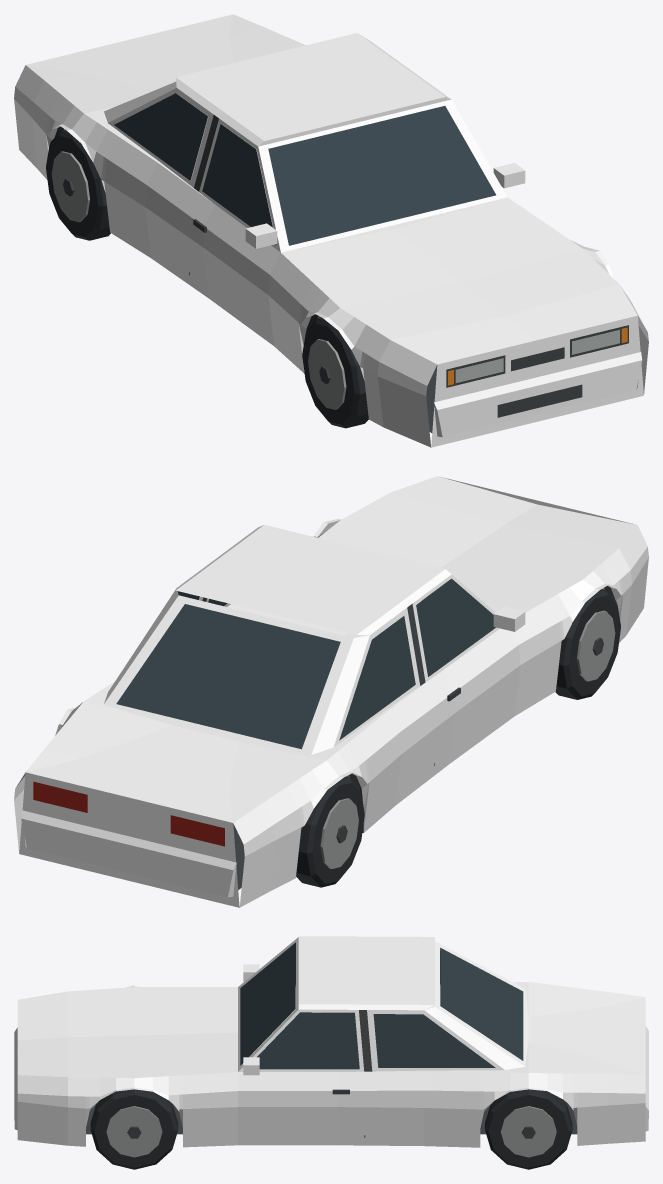
File: bancroft_longhorn_gt.glb
3 renders of one model, top to bottom at view 1: azimuth 30°, elevation 25°; view 2: azimuth 150°, elevation 25°; view 3: azimuth 270°, elevation 25°, orthographic. The views are drawn at different scales.
Visible parts, largest first — view 1: bancroft_longhorn_gt; view 2: bancroft_longhorn_gt; view 3: bancroft_longhorn_gt.
Boxes of the visible parts, x1,y1,x2,y2 form: bancroft_longhorn_gt: [14, 14, 648, 447]; bancroft_longhorn_gt: [14, 476, 648, 907]; bancroft_longhorn_gt: [14, 936, 648, 1169].
Size of the model in its own units: 1.82 by 1.23 by 4.7.
Materials: 8 (1 with a texture image).
